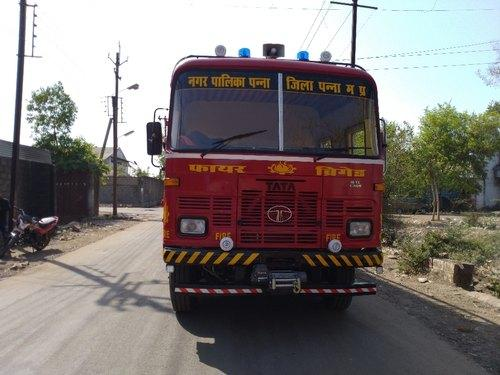Emergency-Vehicles: (158, 25, 390, 339)
